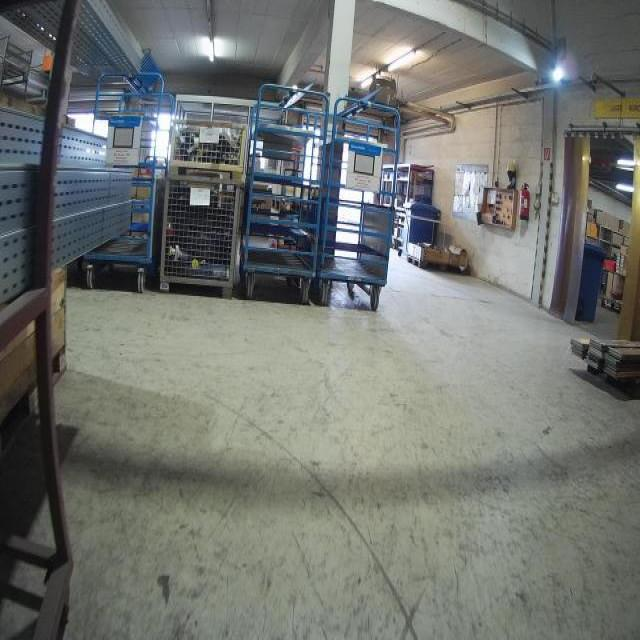pallet: (407, 255, 468, 276)
stillage: (156, 169, 241, 300), (163, 90, 254, 185)
